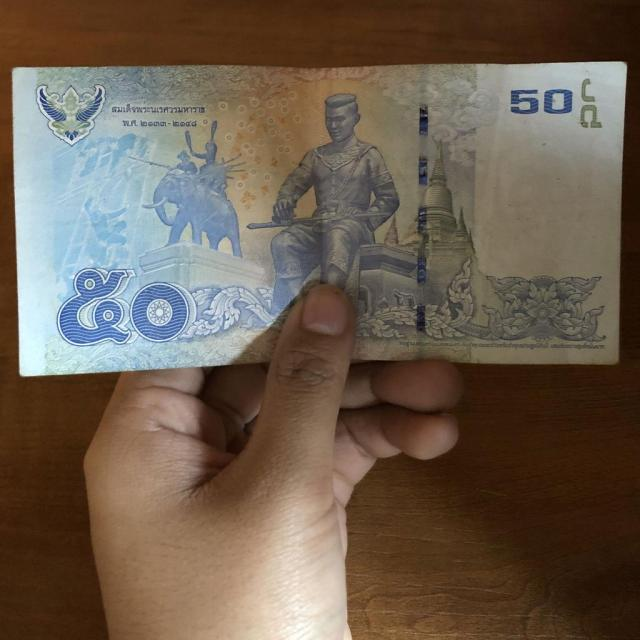THAI50: (12, 63, 626, 376)
